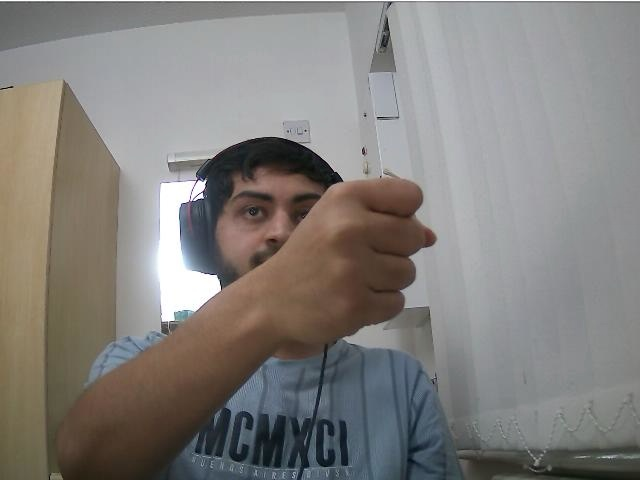hold: (289, 180, 430, 345)
